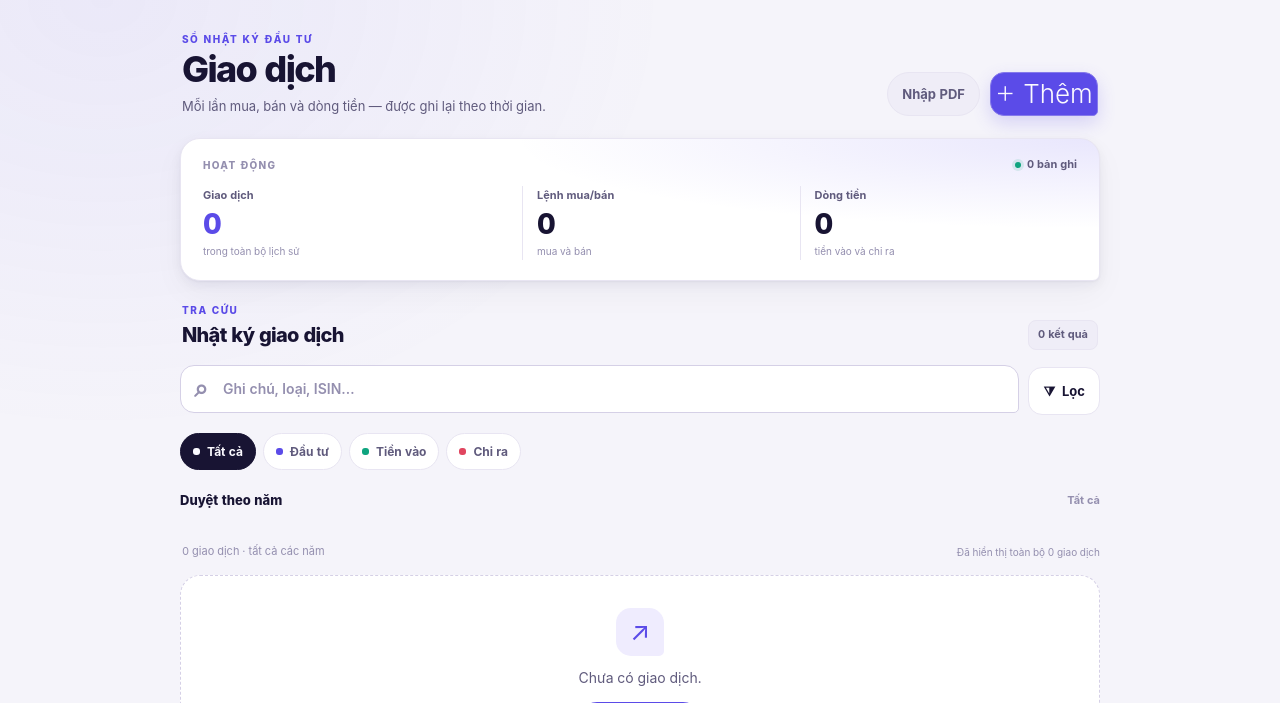
Test: Transactions load and empty states › loads the optional PDF importer only from its separate transaction-tool entry
expect the text "Chưa có giao dịch." is shown: met, box [578,669,702,686]
expect the text "pdf-import-loaded" is not shown: met
Click the heading "Nhập PDF": click(934, 94) [887,72,980,116]
(page scrolled)
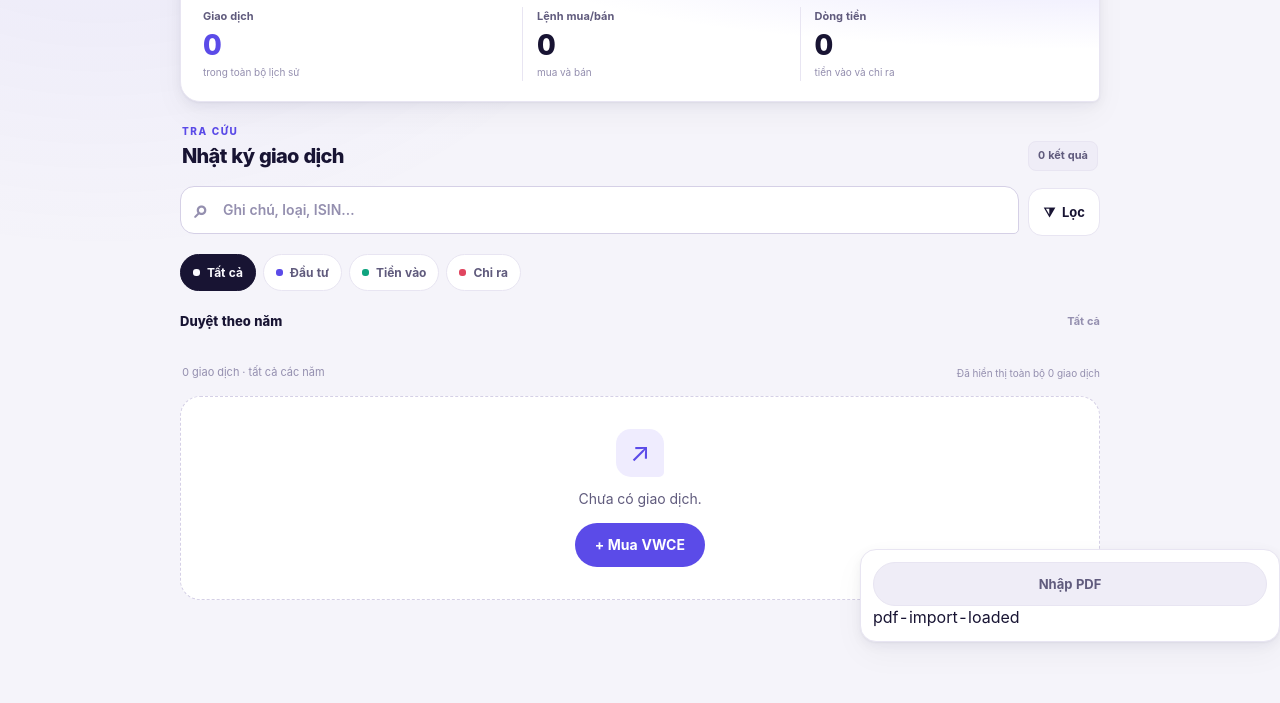
expect the text "pdf-import-loaded" is shown: met, box [873,607,1020,627]
